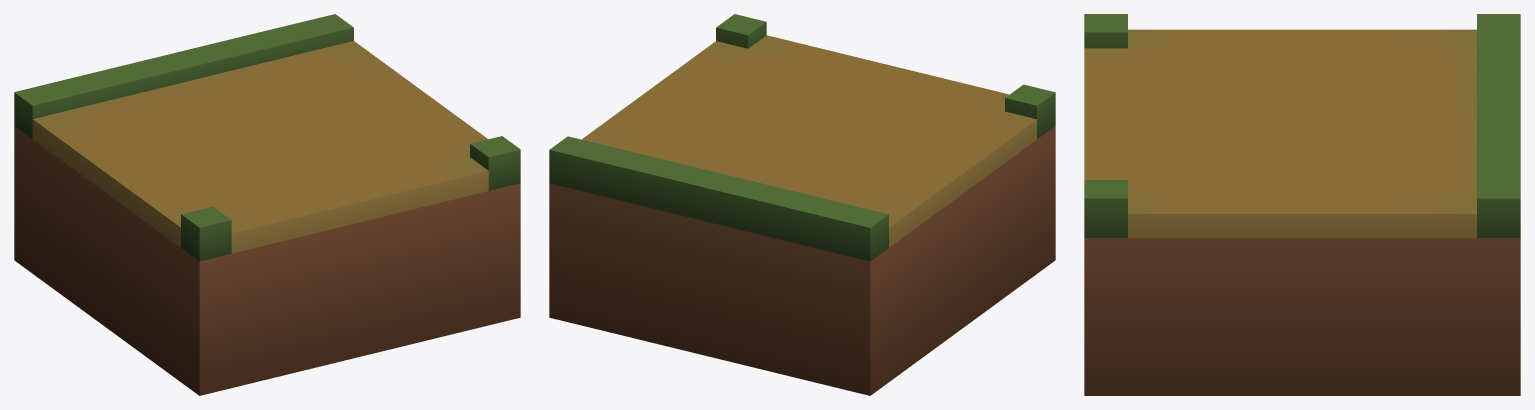
File: Chemin_Intersection.fbx
3 views of the same model, side by side, from view 1: azimuth 30°, elevation 25°; view 2: azimuth 150°, elevation 25°; view 3: azimuth 270°, elevation 25° (orthographic). The views are drawn at different scales.
Parts seen in each view (by area): view 1: Chemin_Intersection; view 2: Chemin_Intersection; view 3: Chemin_Intersection.
Part boxes in pixels (x1=…): Chemin_Intersection: x1=14, y1=14, x2=520, y2=395; Chemin_Intersection: x1=549, y1=14, x2=1055, y2=395; Chemin_Intersection: x1=1084, y1=14, x2=1520, y2=395.
Size of the model in its own units: 500 by 250 by 500.
